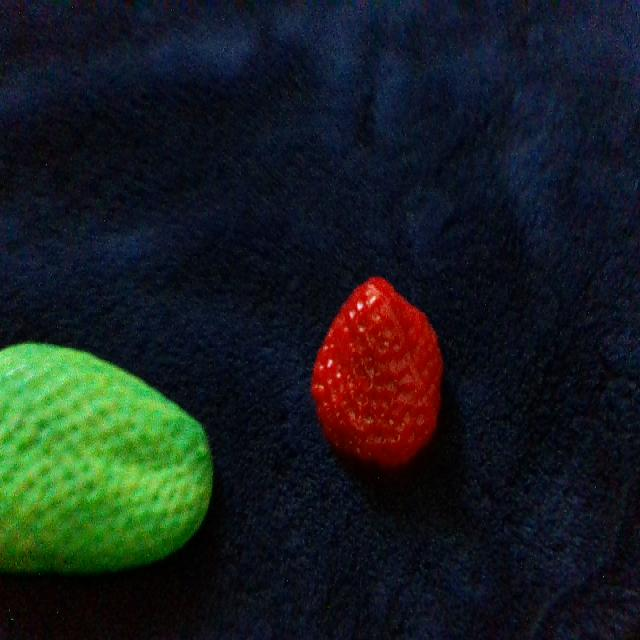chica_roja: (312, 279, 442, 465)
verde: (0, 344, 212, 572)
